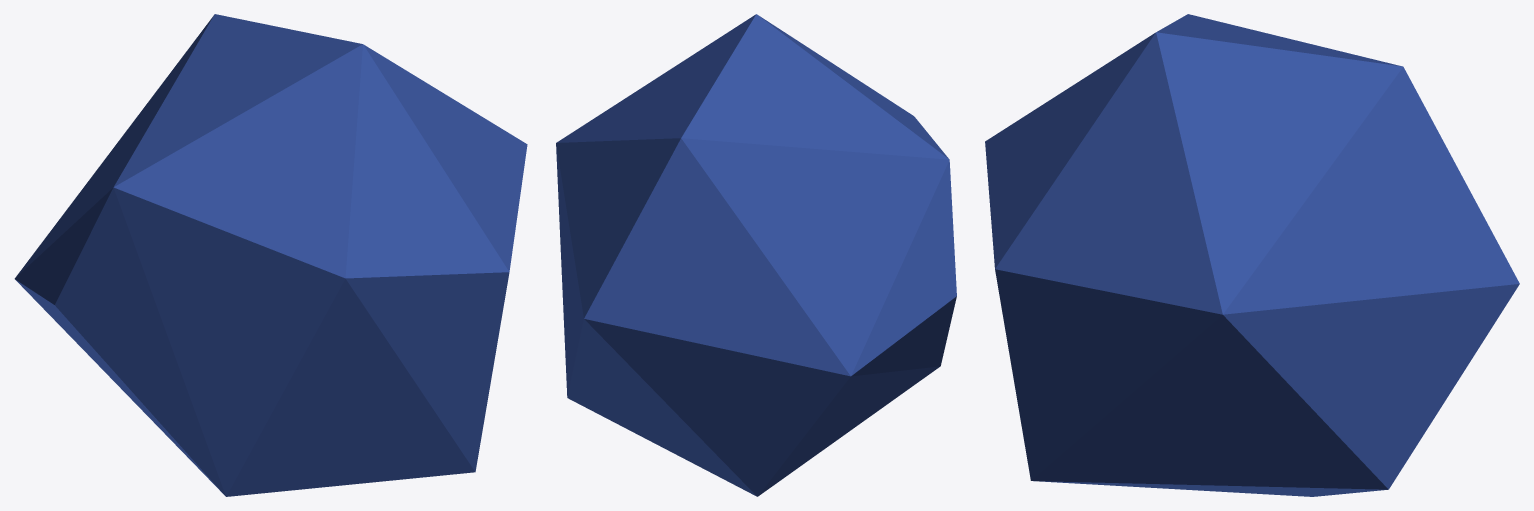
Rendered from island3_stone1.obj.
The picture shows the model from 3 angles, left to right: view 1: azimuth 30°, elevation 25°; view 2: azimuth 150°, elevation 25°; view 3: azimuth 270°, elevation 25°; orthographic projection. The views are drawn at different scales.
Parts seen in each view (by area): view 1: Icosphere.000_Icosphere.009; view 2: Icosphere.000_Icosphere.009; view 3: Icosphere.000_Icosphere.009.
Part boxes in pixels (x1,y1,x2,y2): Icosphere.000_Icosphere.009: (14, 14, 527, 496); Icosphere.000_Icosphere.009: (556, 14, 956, 496); Icosphere.000_Icosphere.009: (985, 14, 1519, 496).
Size of the model in its own units: 1.98 by 1.94 by 1.87.
